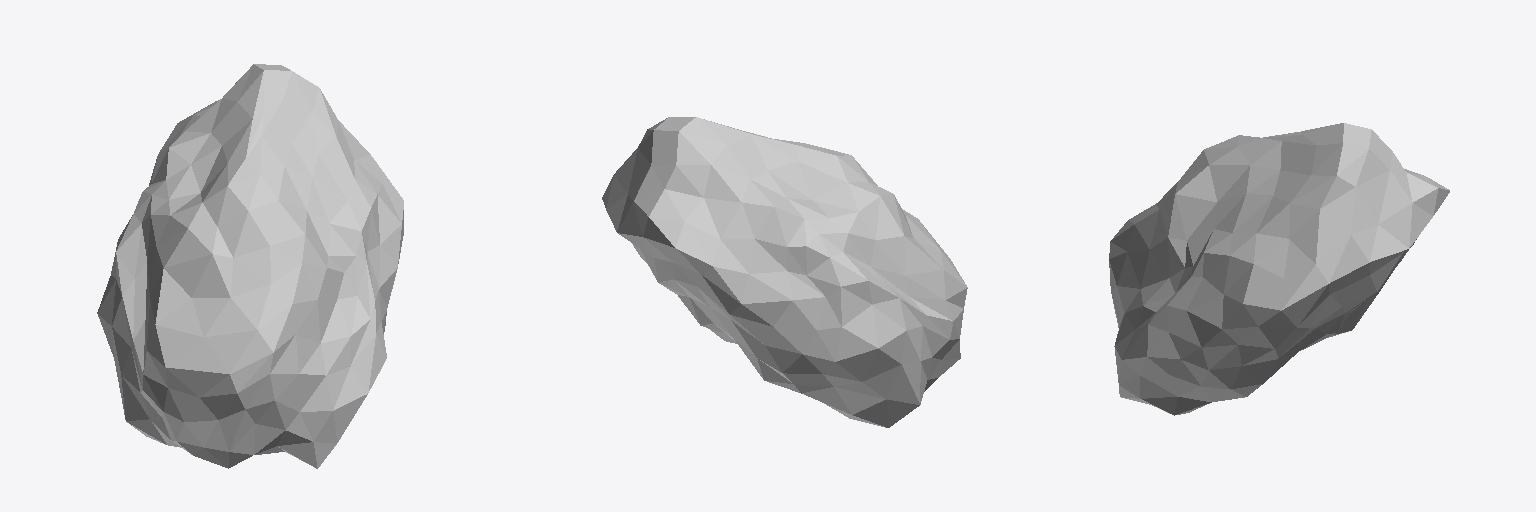
File: asteroid29.obj
3 renders of one model, left to right at view 1: azimuth 30°, elevation 25°; view 2: azimuth 150°, elevation 25°; view 3: azimuth 270°, elevation 25°, orthographic.
Parts seen in each view (by area): view 1: asteroid; view 2: asteroid; view 3: asteroid.
Part boxes in pixels (x1,y1,x2,y2): asteroid: (97, 64, 403, 468); asteroid: (602, 117, 967, 427); asteroid: (1109, 123, 1449, 415).
Size of the model in its own units: 51.55 by 50.44 by 51.16.